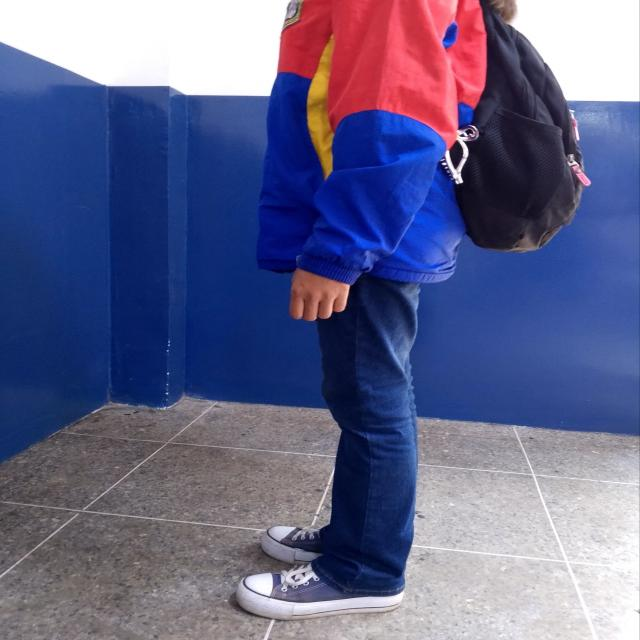chaqueta_unefa: (252, 0, 488, 288)
pantalon_oscuro: (309, 279, 419, 599)
